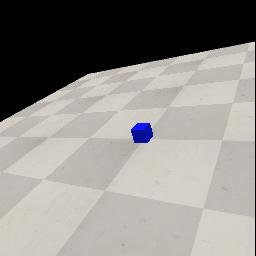box: (131, 123, 153, 143)
